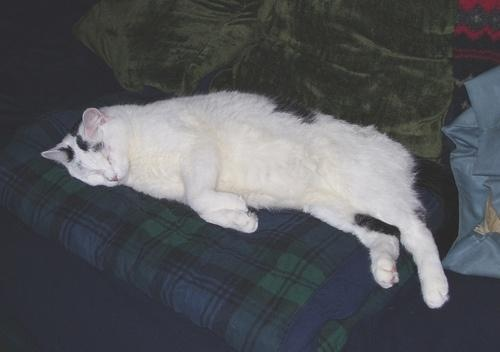cat: (44, 90, 455, 310)
